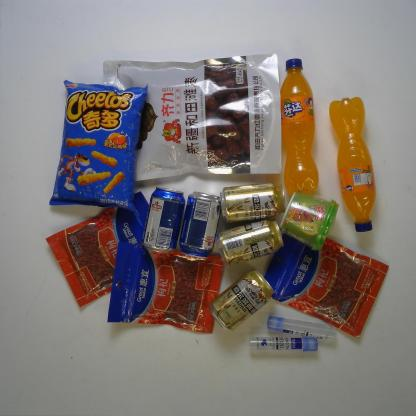Alcohol: (207, 268, 276, 334), (214, 218, 285, 270), (141, 185, 186, 255), (178, 191, 224, 259), (219, 182, 288, 226)
Dried Food: (99, 51, 285, 179)
Dried Fruit: (262, 230, 390, 340), (42, 190, 152, 311), (106, 240, 226, 336)
Drink: (327, 94, 378, 235), (278, 55, 321, 197)
Instant Drink: (278, 190, 340, 253)
Puffed Food: (47, 79, 150, 217)
Stationery: (266, 314, 337, 342), (247, 335, 322, 353)
